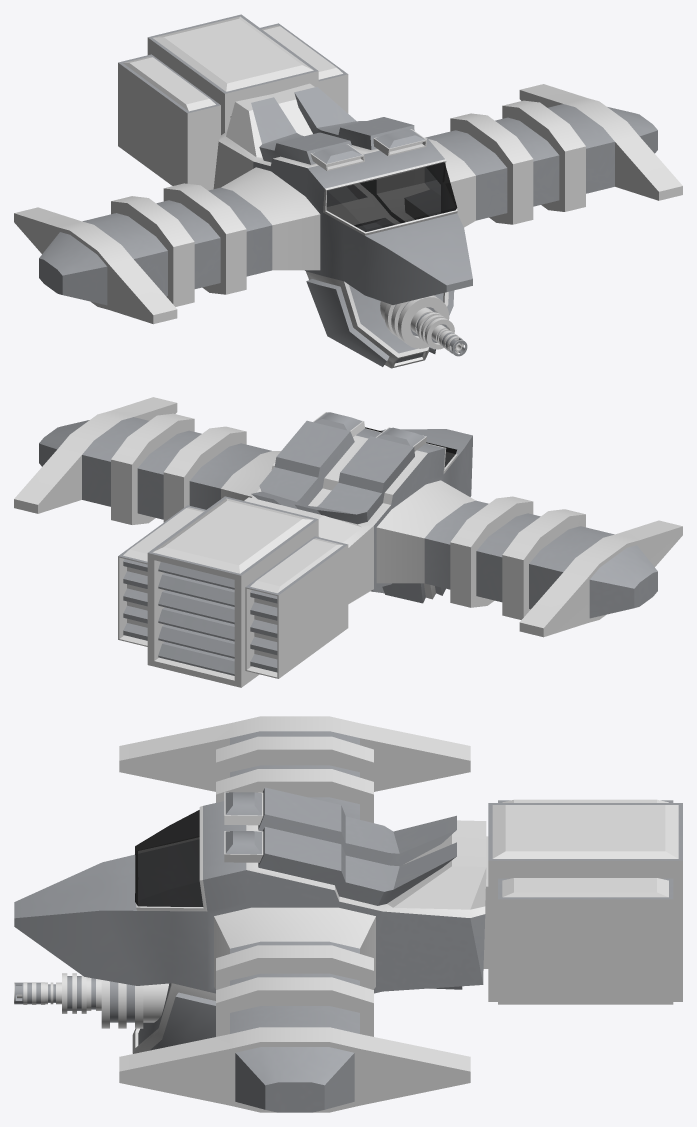
File: CEA.fbx
3 renders of one model, top to bottom at view 1: azimuth 30°, elevation 25°; view 2: azimuth 150°, elevation 25°; view 3: azimuth 270°, elevation 25°, orthographic. The views are drawn at different scales.
Parts seen in each view (by area): view 1: CEA; view 2: CEA; view 3: CEA.
Boxes of the visible parts, x1,y1,x2,y2 form: CEA: [14, 14, 682, 368]; CEA: [14, 397, 682, 687]; CEA: [14, 716, 682, 1112].
Size of the model in its own units: 8.9 by 2.8 by 6.87.
